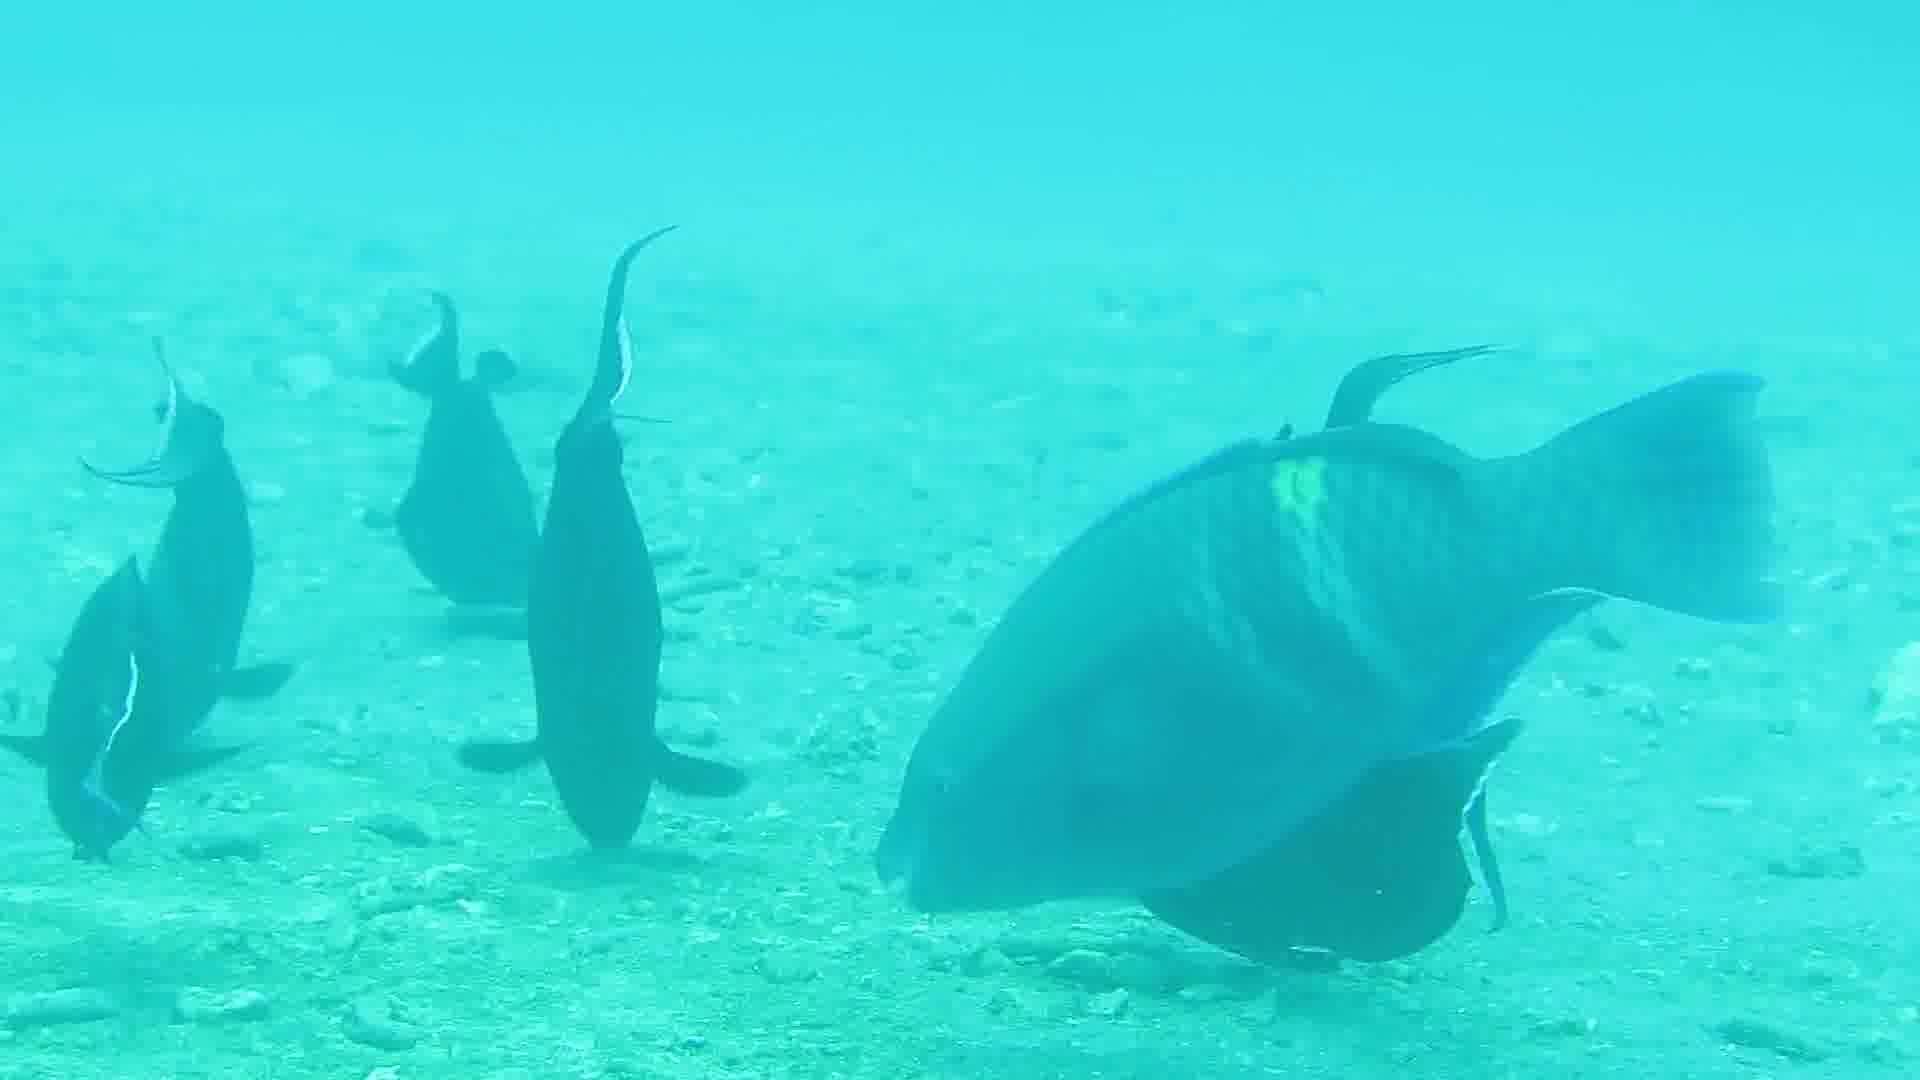Acanthurus olivaceus: (870, 365, 1809, 949), (32, 335, 255, 963), (330, 216, 553, 844), (524, 229, 745, 858)
